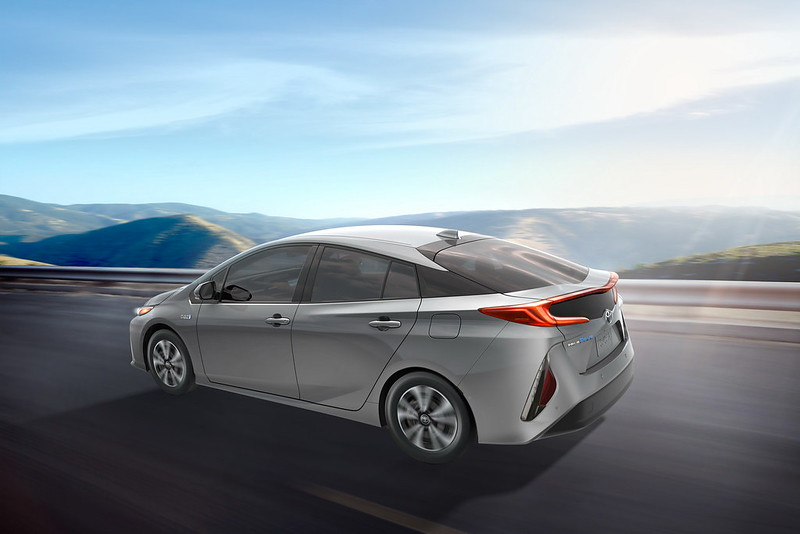car: (126, 220, 641, 467)
